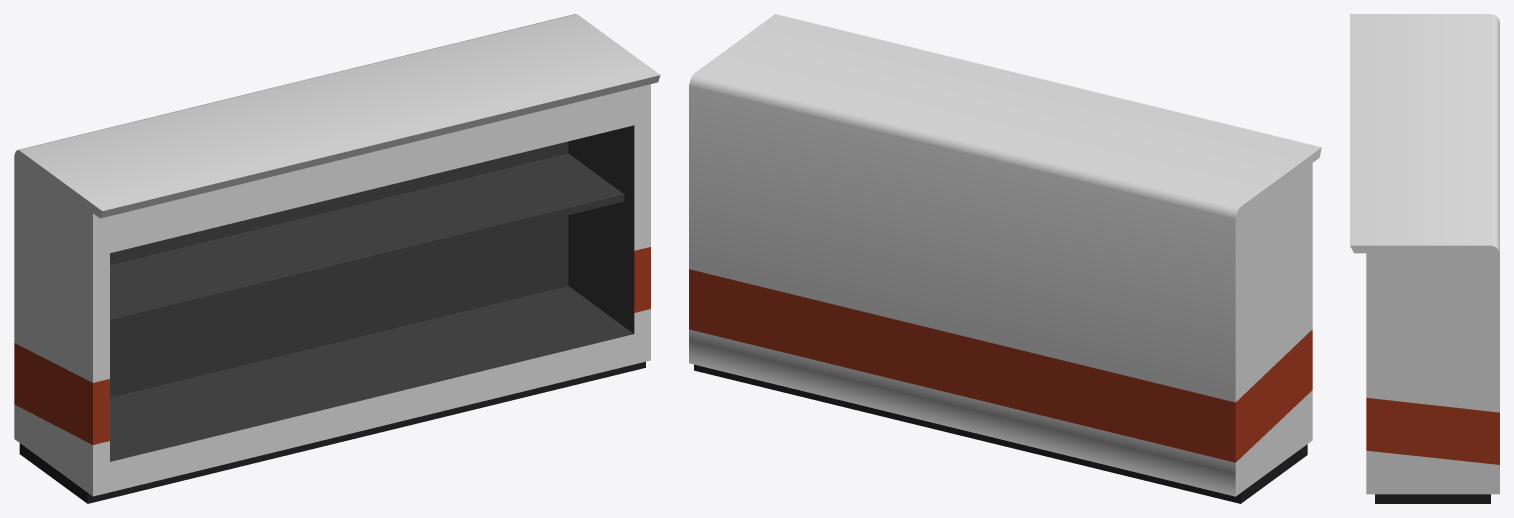
The model's file is desk_9.glb.
3 renders of one model, left to right at view 1: azimuth 30°, elevation 25°; view 2: azimuth 150°, elevation 25°; view 3: azimuth 270°, elevation 25°, orthographic. The views are drawn at different scales.
Parts seen in each view (by area): view 1: Desk_3; view 2: Desk_3; view 3: Desk_3.
Part boxes in pixels (x1,y1,x2,y2): Desk_3: (14,14,660,503); Desk_3: (689,14,1321,503); Desk_3: (1350,14,1499,503).
Size of the model in its own units: 2 by 1.04 by 0.5467.
1 material, 1 textured.
